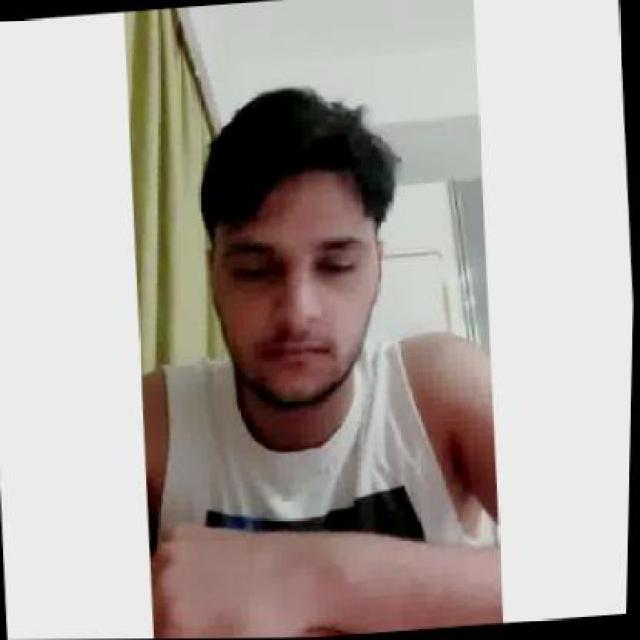inattentif: (186, 79, 397, 419)
